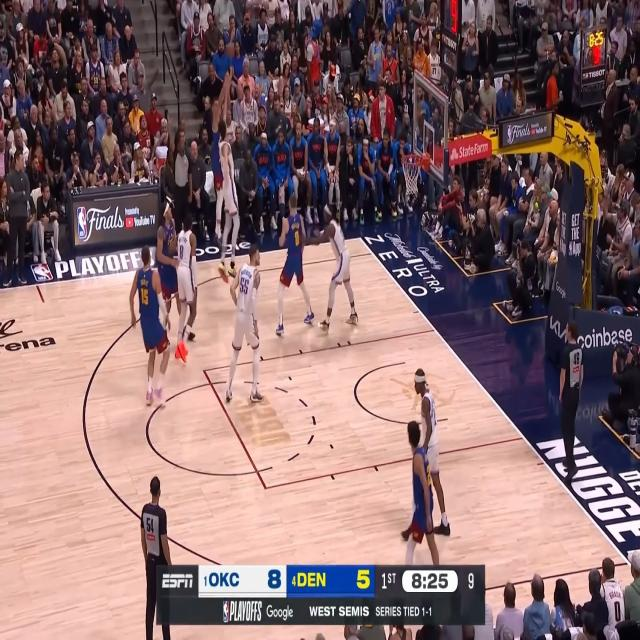ball: (226, 42, 235, 59)
number: (240, 276, 249, 295), (140, 287, 148, 307), (294, 232, 300, 246), (180, 244, 183, 259)
player: (401, 367, 452, 542), (300, 203, 359, 337), (130, 245, 170, 409), (226, 244, 265, 404), (153, 200, 195, 342), (276, 194, 316, 336), (405, 419, 440, 565), (169, 212, 198, 366)
player-jump-shot: (210, 71, 232, 242)
player-shot-block: (218, 72, 242, 285)
referee: (141, 477, 174, 640), (558, 317, 585, 482), (171, 118, 192, 238)
rim: (400, 154, 423, 167)
